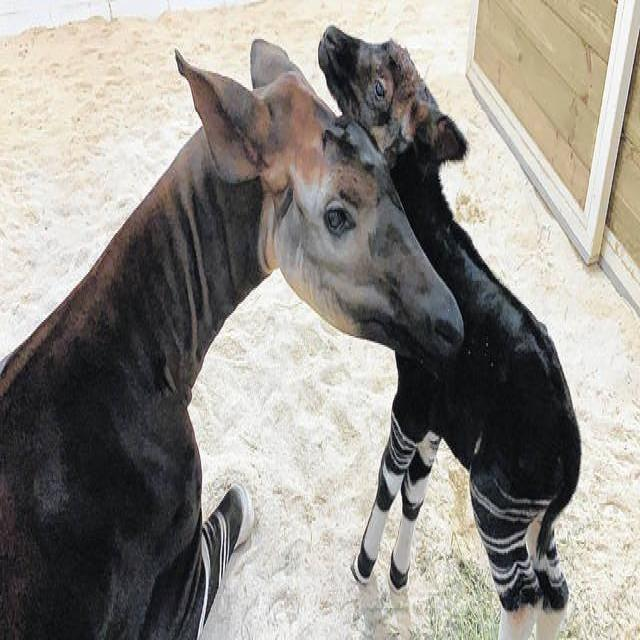Okapi: (0, 29, 469, 640), (307, 9, 585, 610)
